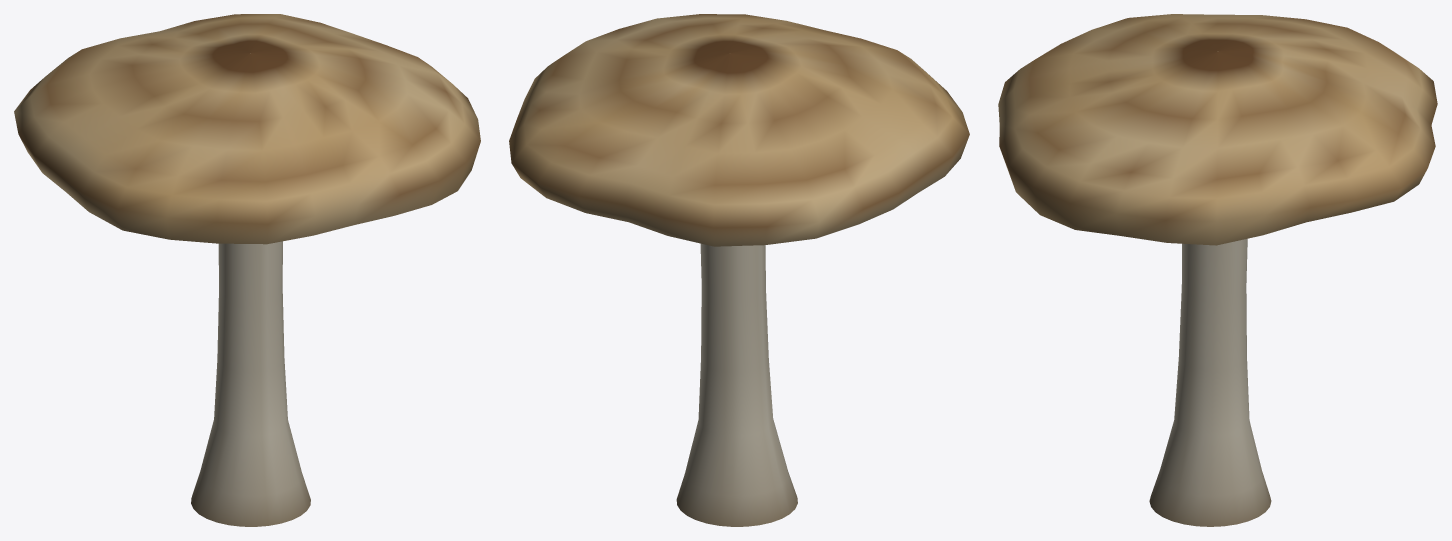
Rendered from mushroom-giant-parasol-a.glb.
3 renders of one model, left to right at view 1: azimuth 30°, elevation 25°; view 2: azimuth 150°, elevation 25°; view 3: azimuth 270°, elevation 25°, orthographic.
Parts seen in each view (by area): view 1: mushroom-giant-parasol-a; view 2: mushroom-giant-parasol-a; view 3: mushroom-giant-parasol-a.
Part boxes in pixels (bbox=[...]): mushroom-giant-parasol-a: bbox=[14, 14, 480, 526]; mushroom-giant-parasol-a: bbox=[509, 14, 969, 526]; mushroom-giant-parasol-a: bbox=[998, 14, 1437, 526].
Size of the model in its own units: 1.14 by 1.25 by 1.1.
